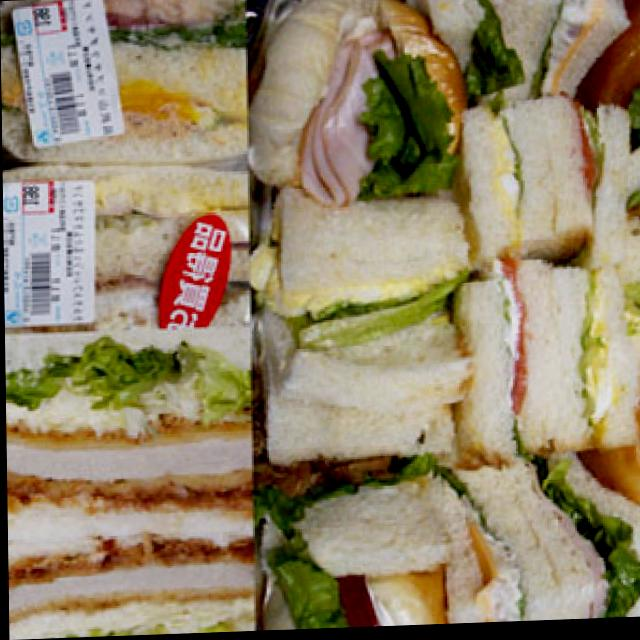三明治: (249, 0, 640, 633)
